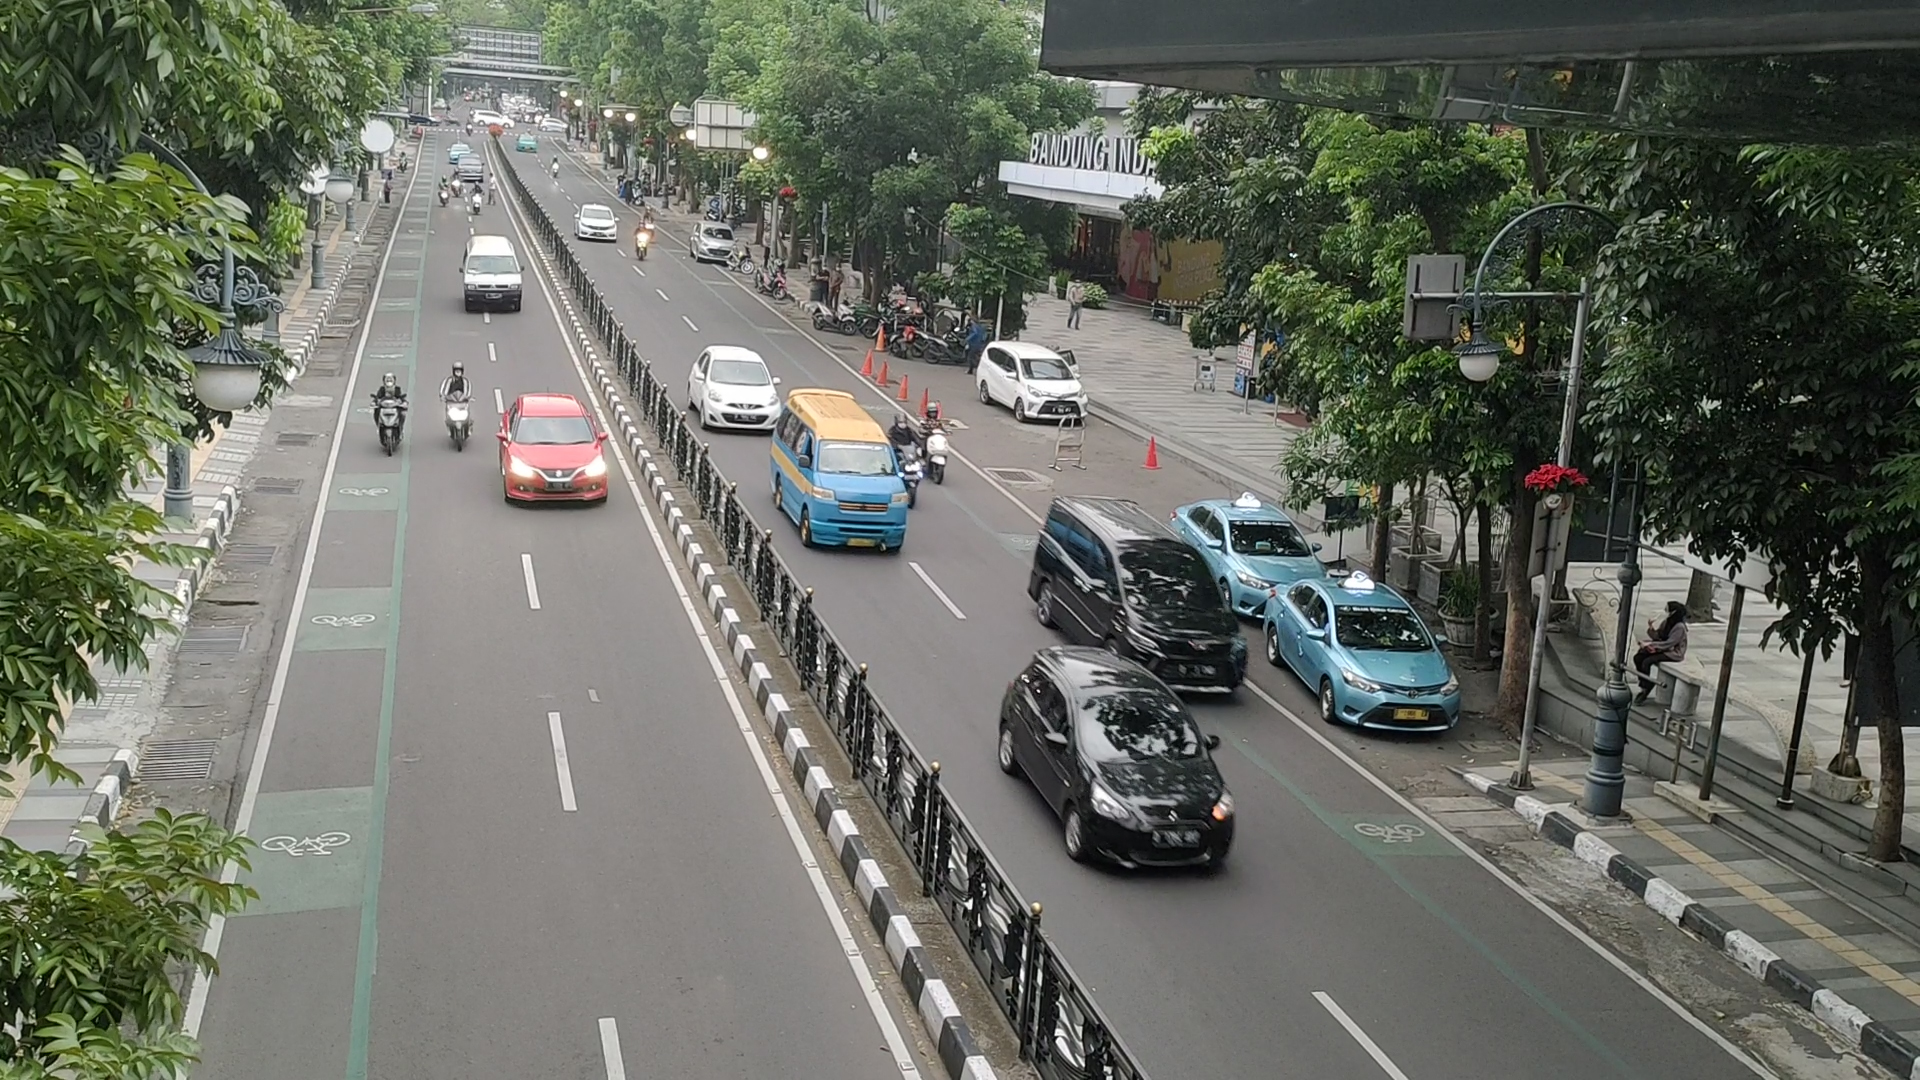mobil: (1064, 690, 1237, 878), (1098, 542, 1246, 704), (1323, 599, 1461, 738), (793, 433, 909, 555), (500, 413, 604, 513), (700, 353, 781, 433), (1014, 349, 1089, 425), (459, 249, 524, 315)
motor: (423, 360, 491, 465), (357, 368, 419, 469), (913, 396, 956, 495)
